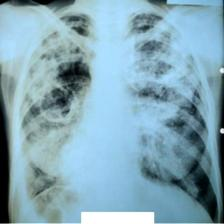tuberculosis: (11, 7, 218, 224)
